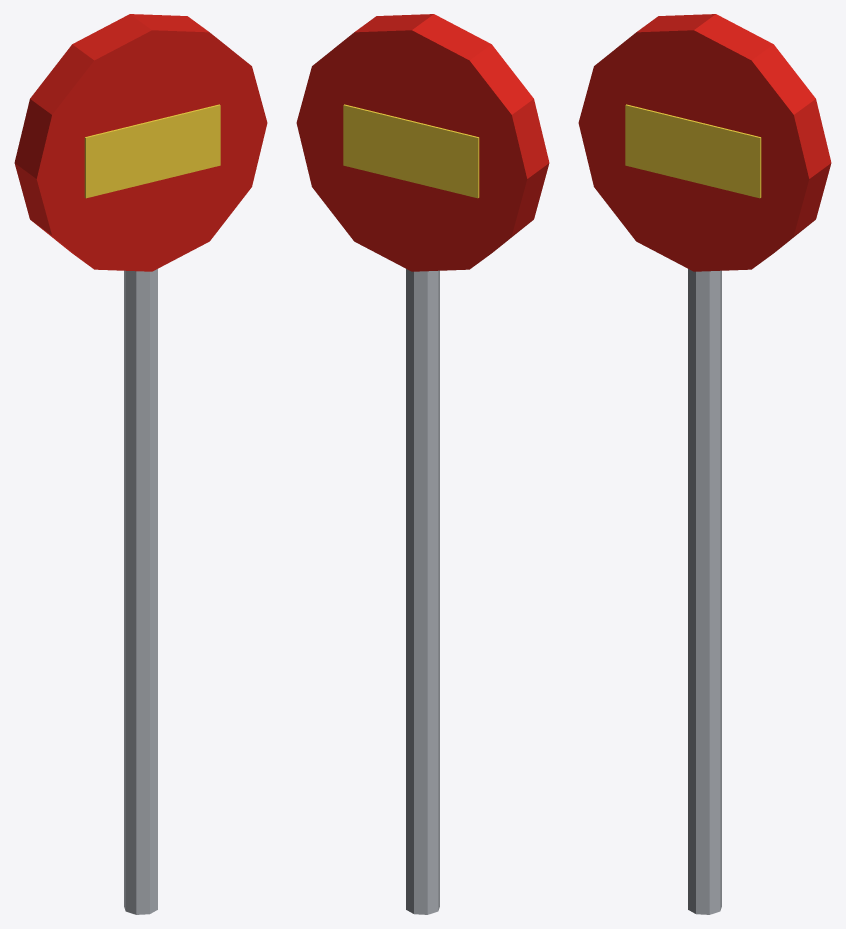
Rendered from fastfood_sign.glb.
The picture shows the model from 3 angles, left to right: view 1: azimuth 30°, elevation 25°; view 2: azimuth 150°, elevation 25°; view 3: azimuth 330°, elevation 25°; orthographic projection.
Parts seen in each view (by area): view 1: fastfood_sign; view 2: fastfood_sign; view 3: fastfood_sign.
Boxes of the visible parts, x1=… form: fastfood_sign: x1=14, y1=14, x2=267, y2=914; fastfood_sign: x1=296, y1=14, x2=549, y2=914; fastfood_sign: x1=578, y1=14, x2=831, y2=914.
Size of the model in its own units: 1.2 by 4.4 by 0.22.
